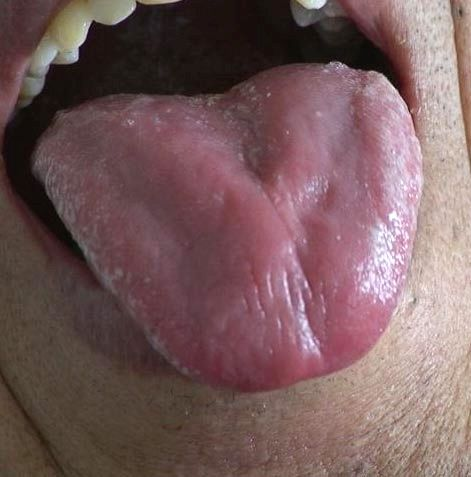liewenshe: (229, 138, 331, 356)
pangdashe: (31, 62, 422, 393)
